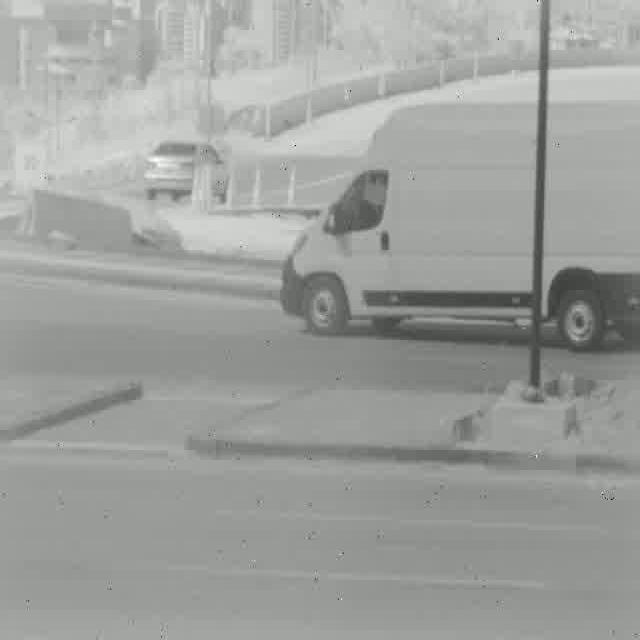Car: (279, 95, 640, 347), (146, 143, 230, 206)
